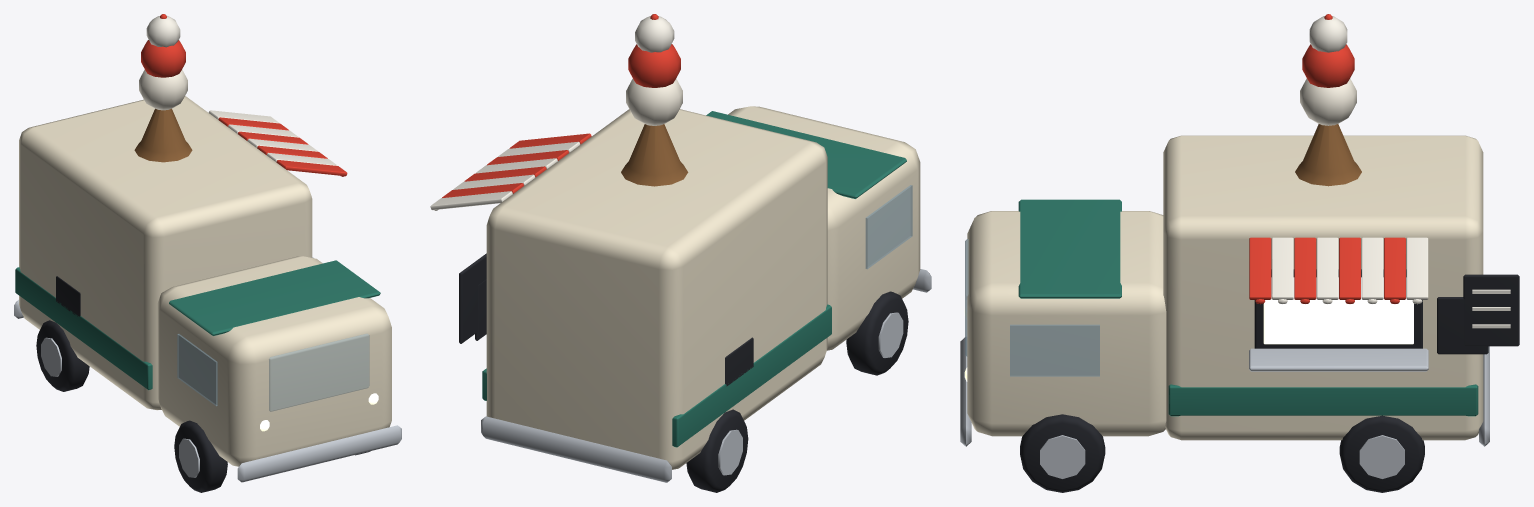
Rendered from food_truck_icecream.glb.
3 renders of one model, left to right at view 1: azimuth 30°, elevation 25°; view 2: azimuth 150°, elevation 25°; view 3: azimuth 270°, elevation 25°, orthographic. The views are drawn at different scales.
Visible parts, largest first — view 1: food_truck_icecream; view 2: food_truck_icecream; view 3: food_truck_icecream.
Boxes of the visible parts, box(x1,y1,x2,y2) form: food_truck_icecream: box(14, 14, 401, 492); food_truck_icecream: box(430, 14, 931, 492); food_truck_icecream: box(960, 14, 1519, 492).
Size of the model in its own units: 2.87 by 4.24 by 4.98.
